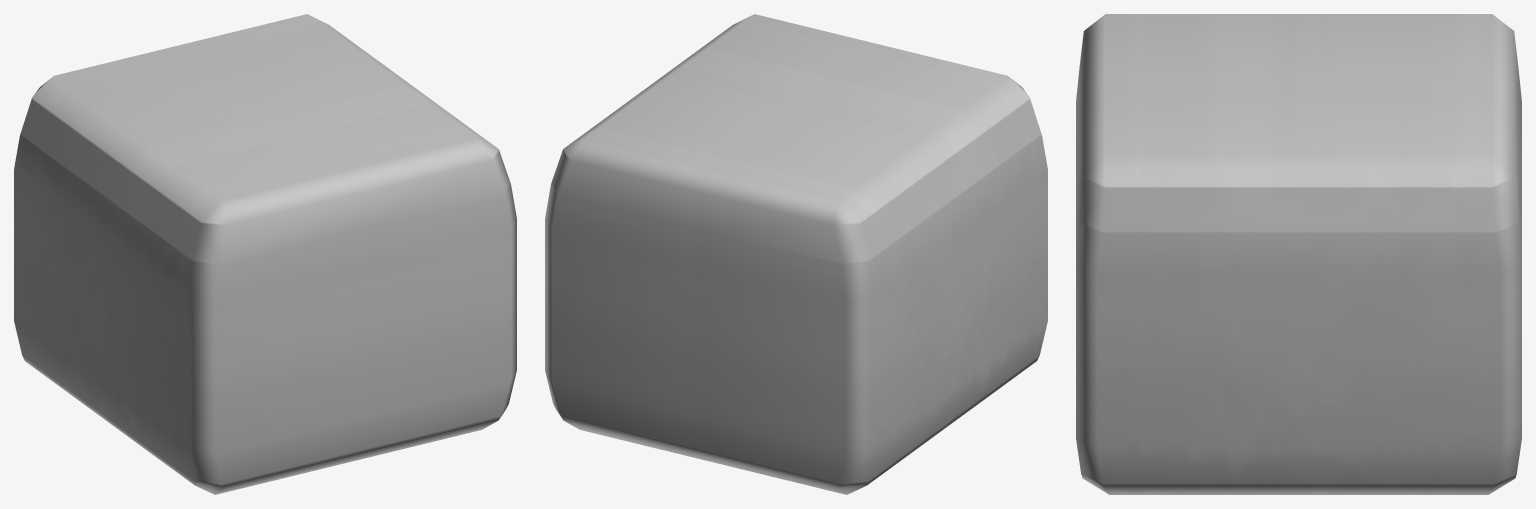
The model's file is Marble.fbx.
3 renders of one model, left to right at view 1: azimuth 30°, elevation 25°; view 2: azimuth 150°, elevation 25°; view 3: azimuth 270°, elevation 25°, orthographic. The views are drawn at different scales.
Visible parts, largest first — view 1: Rock; view 2: Rock; view 3: Rock.
Part boxes in pixels (x1=…): Rock: x1=14, y1=14, x2=516, y2=494; Rock: x1=545, y1=14, x2=1047, y2=494; Rock: x1=1076, y1=14, x2=1521, y2=494.
Size of the model in its own units: 0.491 by 0.4236 by 0.5092.
